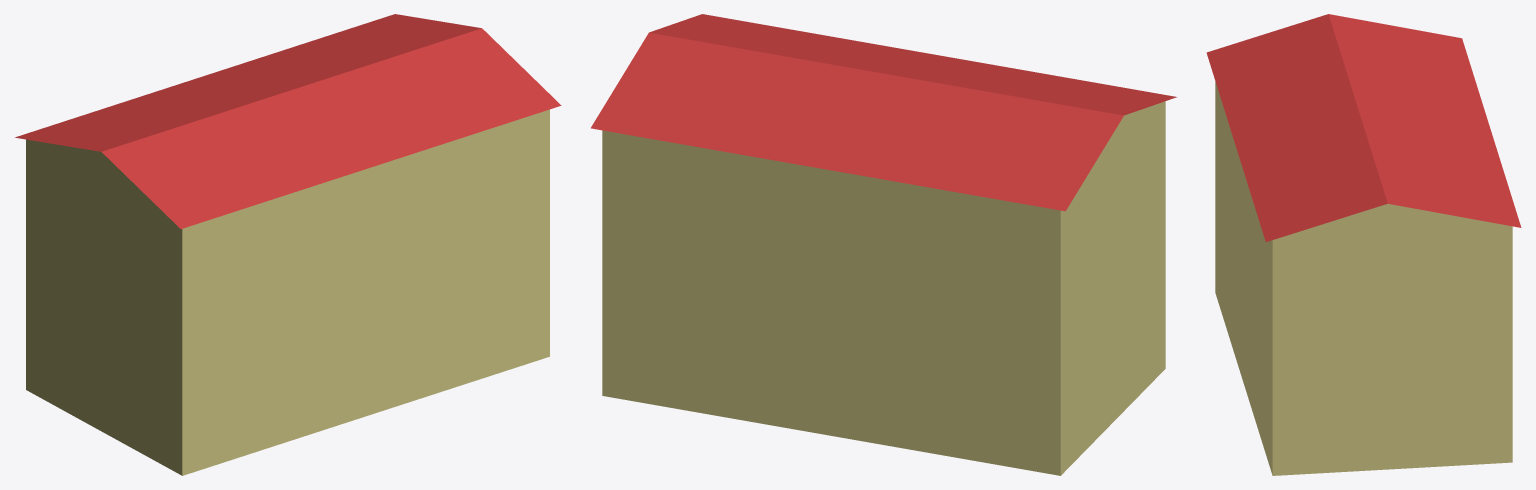
3 renders of one model, left to right at view 1: azimuth 30°, elevation 25°; view 2: azimuth 150°, elevation 25°; view 3: azimuth 270°, elevation 25°, orthographic. The views are drawn at different scales.
Bounding box in the file's own units: 15.24 × 9.94 × 9.38.
